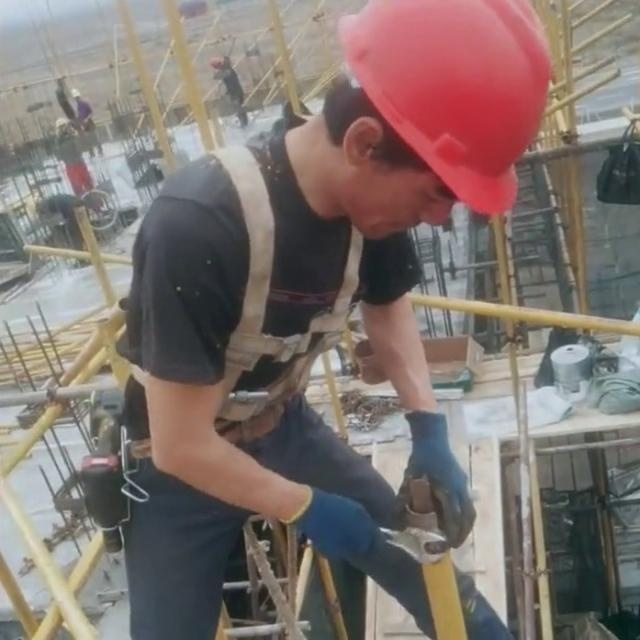Arnes_seguridad: (178, 132, 382, 418)
